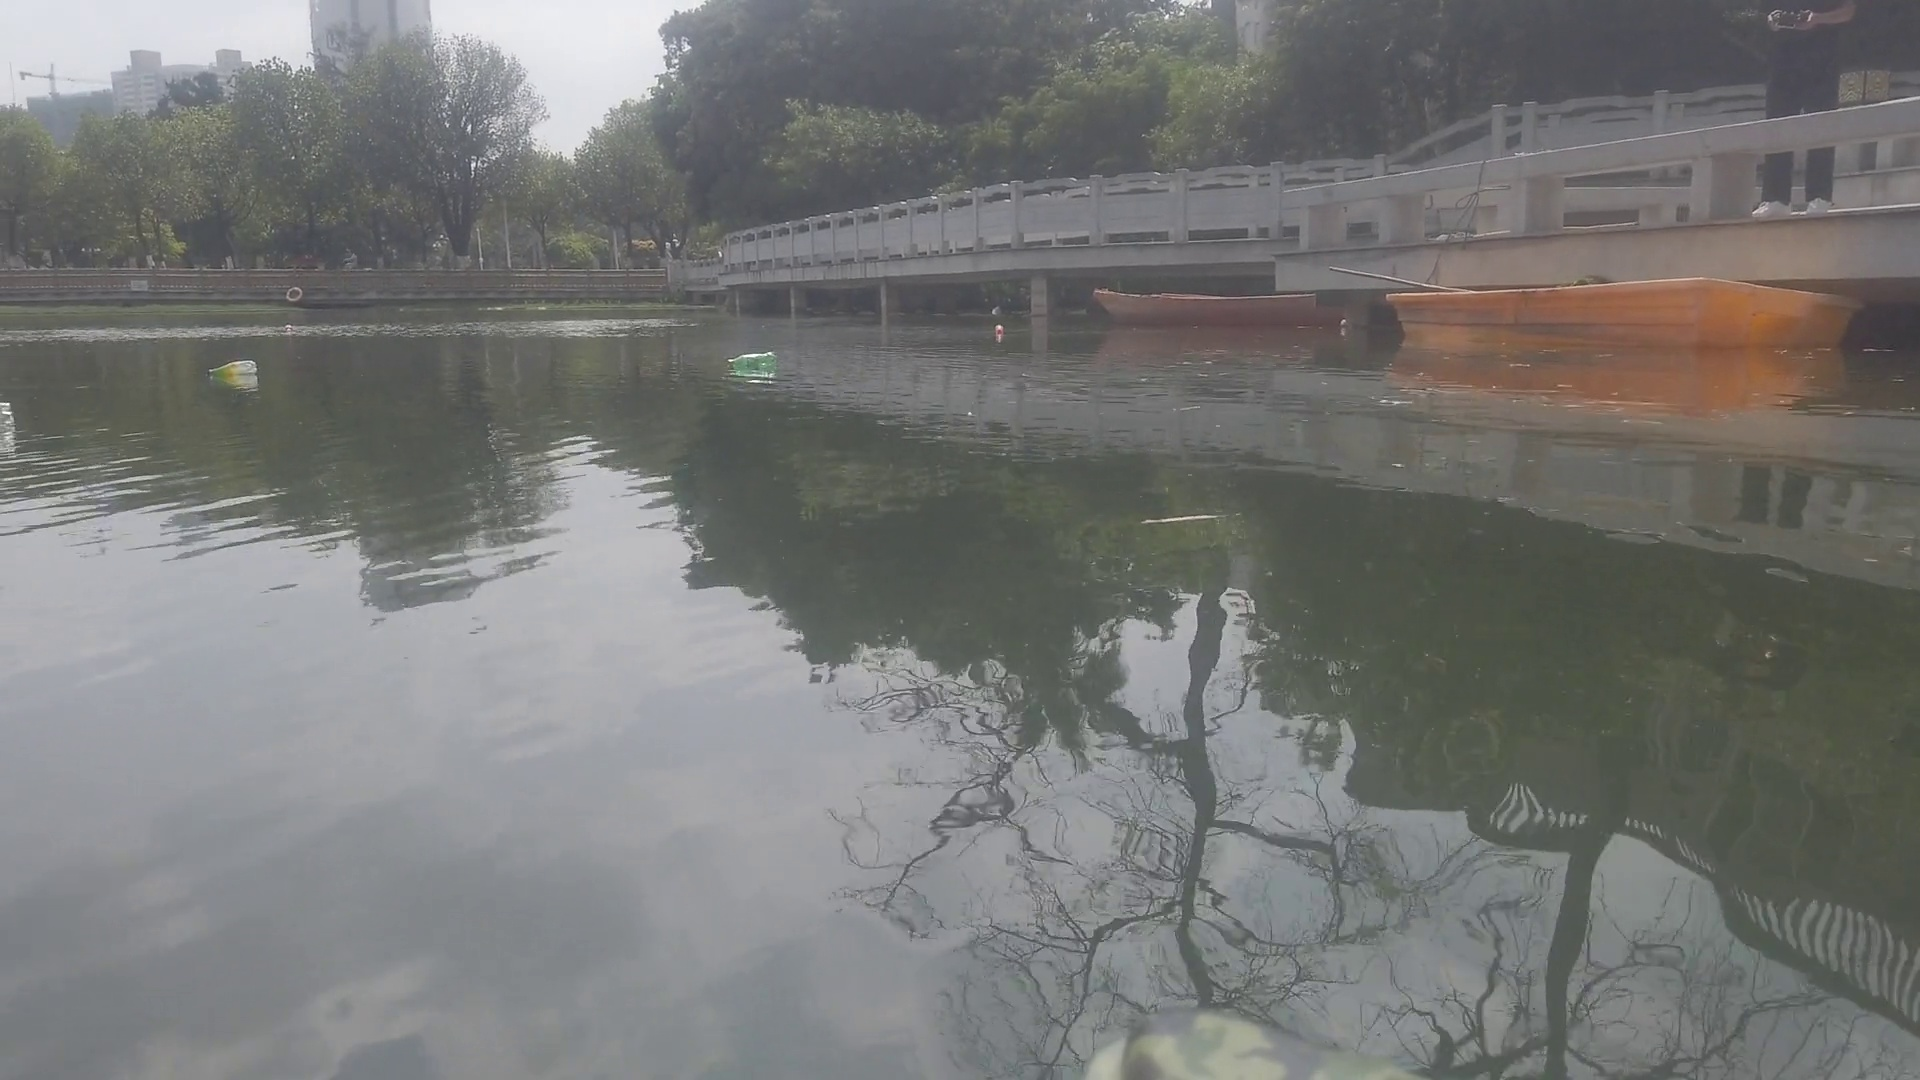bottle: (206, 357, 256, 378), (728, 352, 781, 367), (1, 398, 13, 415), (992, 324, 1005, 338), (285, 320, 295, 334)
